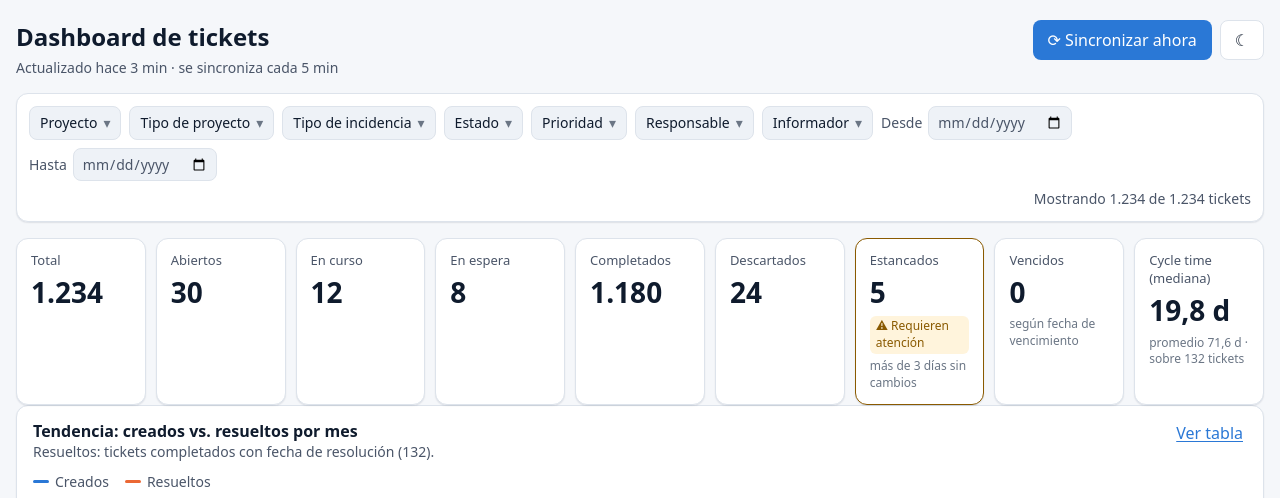
Test: sincronizar ahora › con 429 indica cuántos segundos esperar, y muestra otros errores
Expected: the heading "Total" is shown, [31,251,60,269]
Click the button "⟳ Sincronizar ahora" at (1122,40), box [1032,20,1212,60]
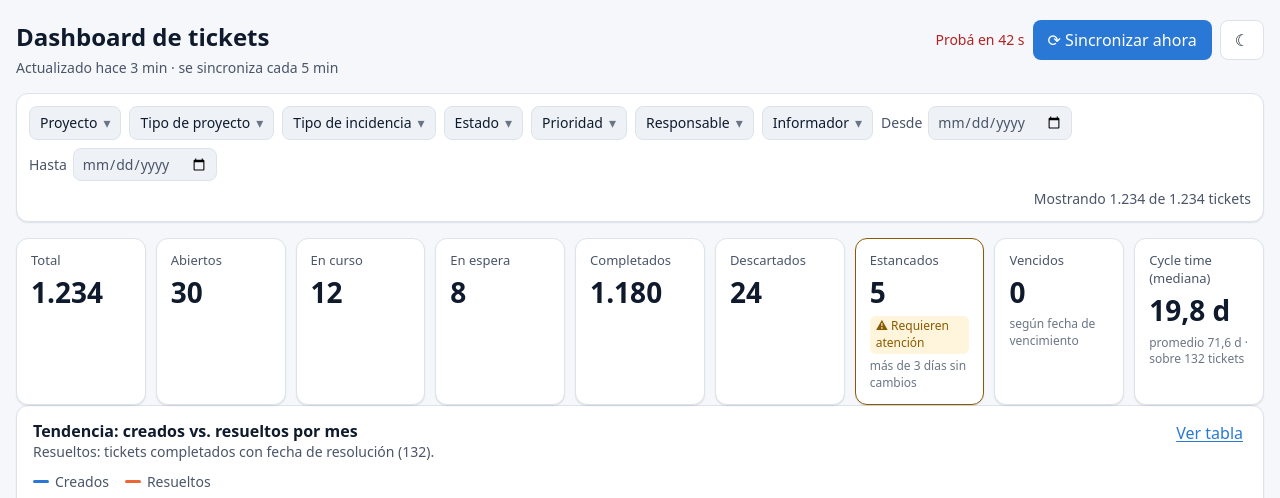
Result: the text "Probá en 42 s" is shown at [935,30,1024,50]
Click the button "⟳ Sincronizar ahora" at (1122,40), box [1032,20,1212,60]
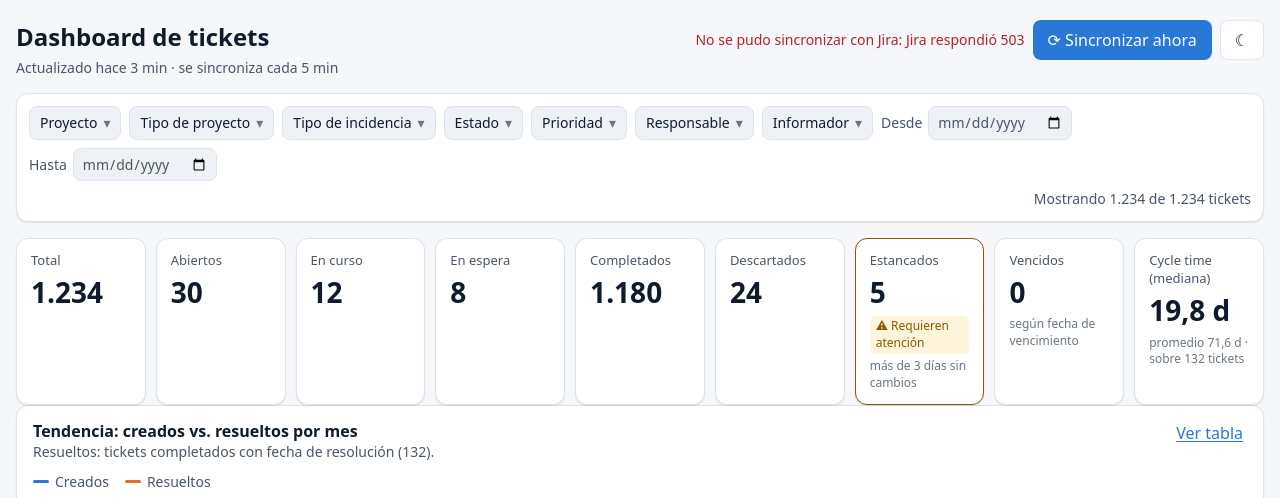
Result: the text "No se pudo sincronizar con Jira: Jira respondió 503" is shown at [696,30,1024,50]
